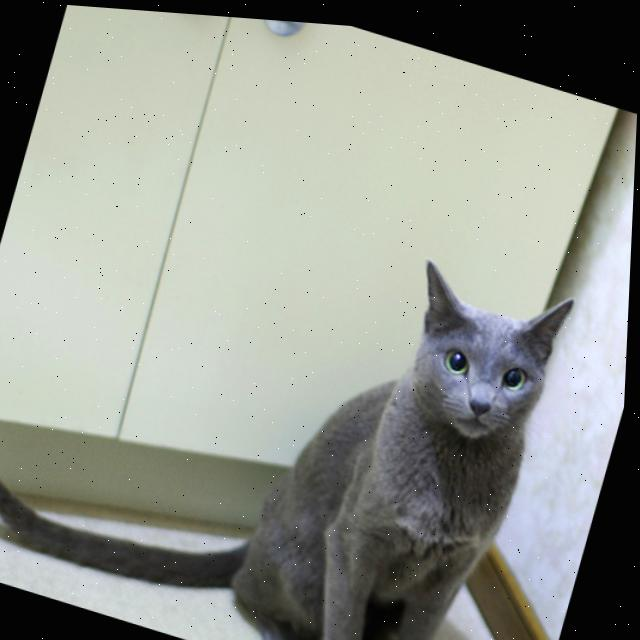Russian Blue: (0, 121, 588, 640)
